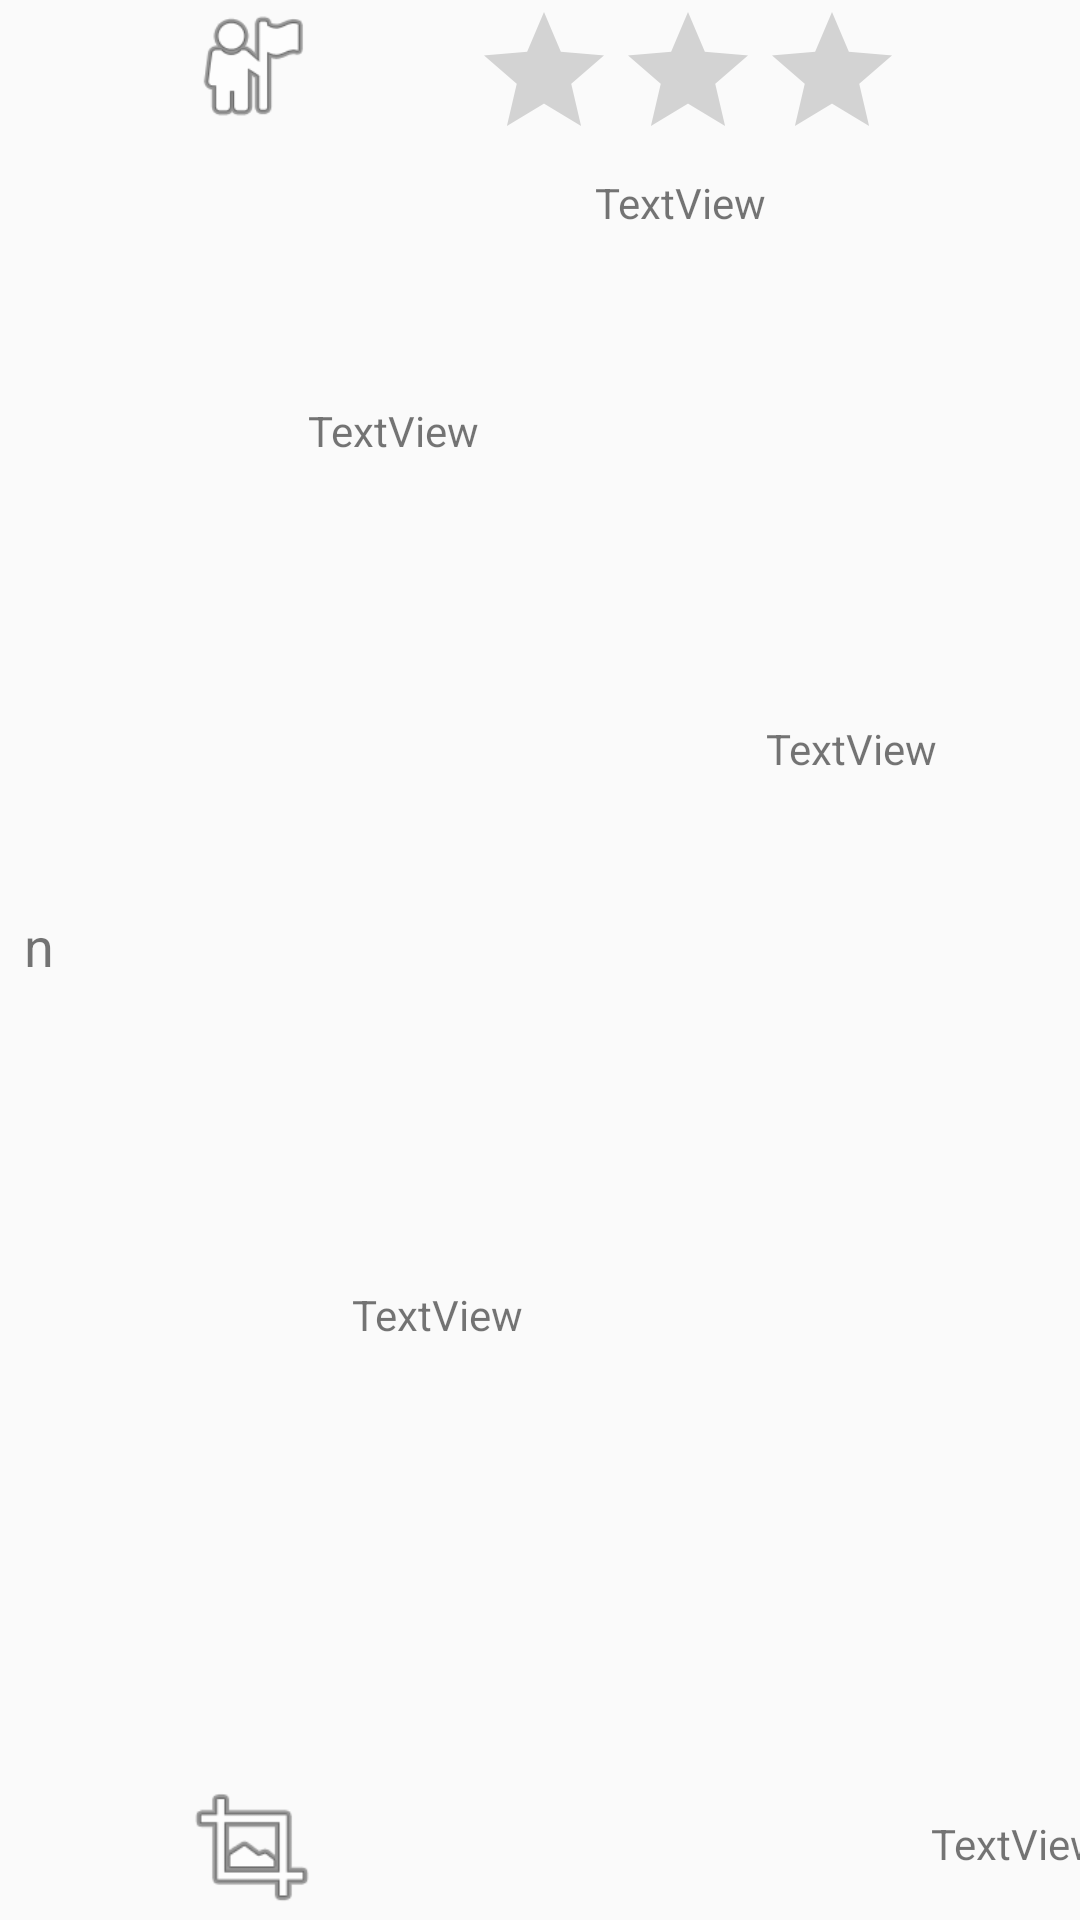

Where to tap for icons on this 1080 x 1920 app screen, as (x=x, y=y):
crop: (x=252, y=1847)
myplaces: (x=253, y=66)
